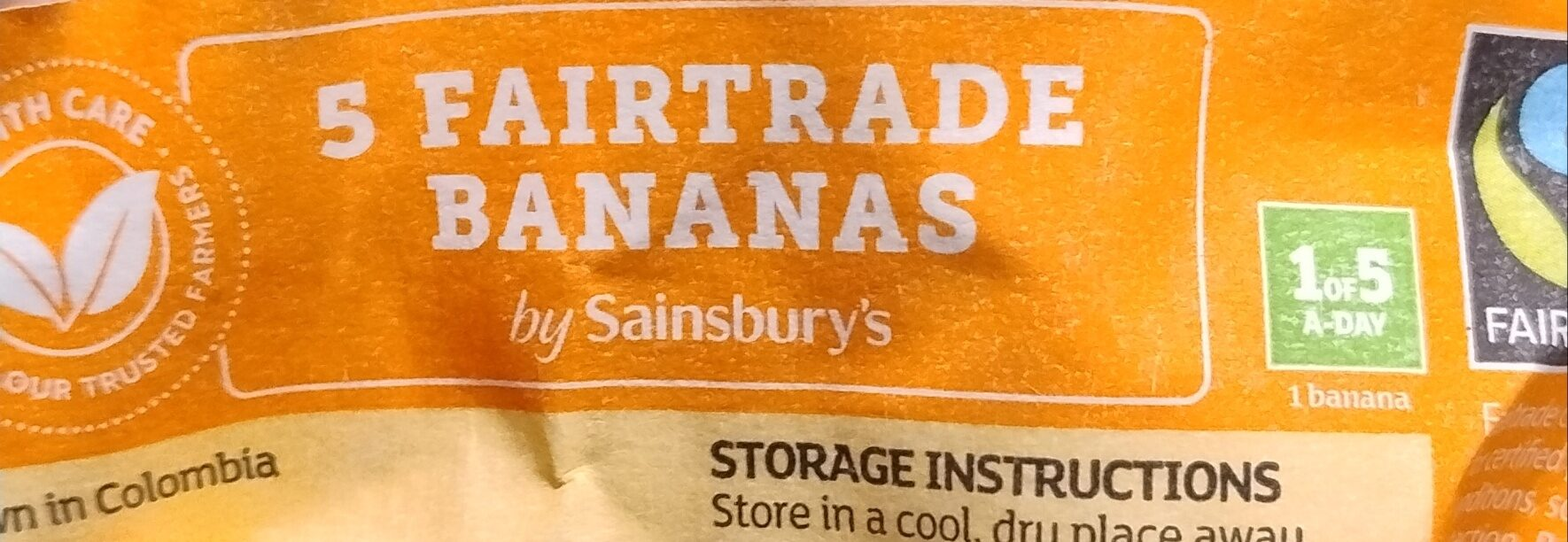5 Fairtrade Bananas: (78, 27, 1490, 515)
